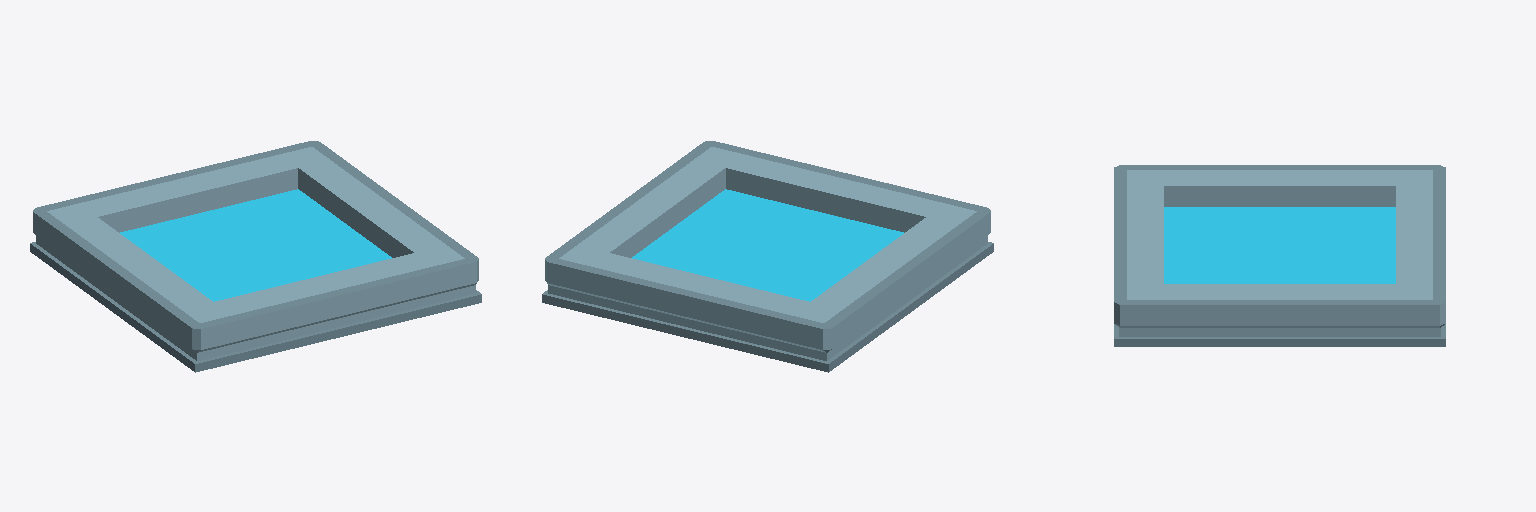
3 views of the same model, side by side, from view 1: azimuth 30°, elevation 25°; view 2: azimuth 150°, elevation 25°; view 3: azimuth 270°, elevation 25° (orthographic).
Parts seen in each view (by area): view 1: fountainSquare; view 2: fountainSquare; view 3: fountainSquare.
Boxes of the visible parts, <box> form: fountainSquare: <box>30,141,481,372</box>; fountainSquare: <box>542,141,993,372</box>; fountainSquare: <box>1114,165,1445,346</box>.
Bounding box in the file's own units: 1 × 0.14 × 1.